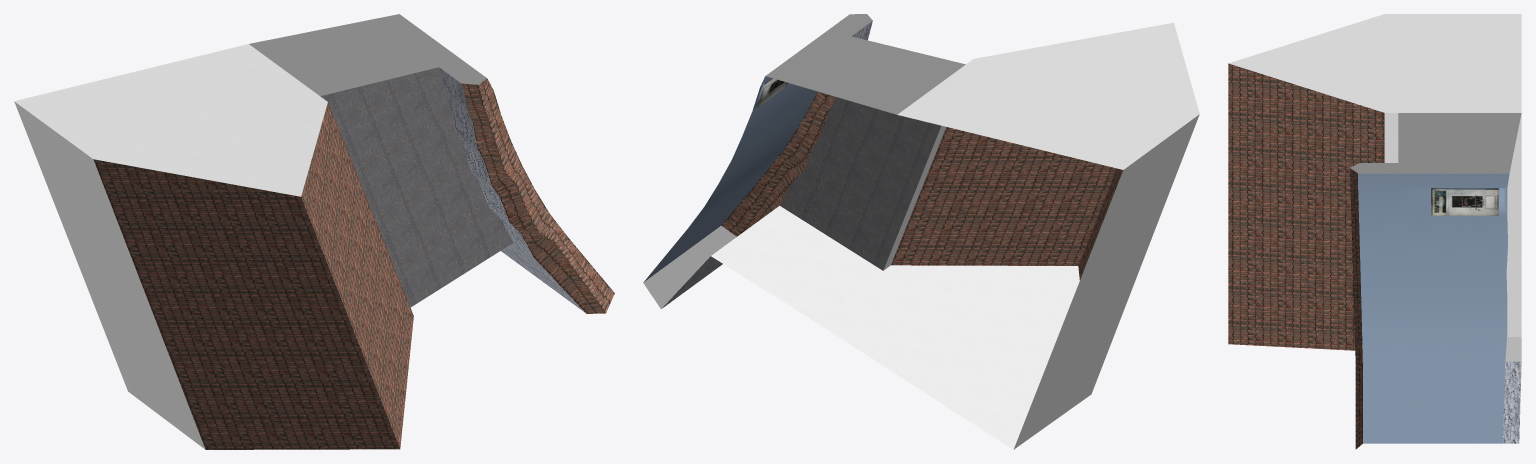
File: Aida_7_1-origo.obj
3 views of the same model, side by side, from view 1: azimuth 30°, elevation 25°; view 2: azimuth 150°, elevation 25°; view 3: azimuth 270°, elevation 25° (orthographic). The views are drawn at different scales.
Parts seen in each view (by area): view 1: aida_7_1, xxx; view 2: aida_7_1, xxx; view 3: aida_7_1, xxx.
Boxes of the visible parts, x1,y1,x2,y2 form: aida_7_1: (14, 44, 614, 449); xxx: (249, 14, 486, 96); aida_7_1: (643, 21, 1199, 449); xxx: (643, 14, 965, 308); aida_7_1: (1228, 14, 1521, 449); xxx: (1350, 113, 1521, 173).
Bounding box in the file's own units: 19.25 × 11.5 × 11.12.
